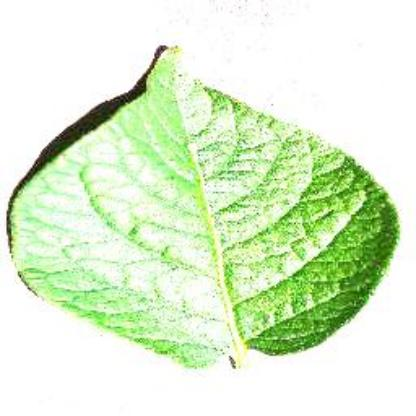Healthy-plant: (8, 36, 396, 372)
